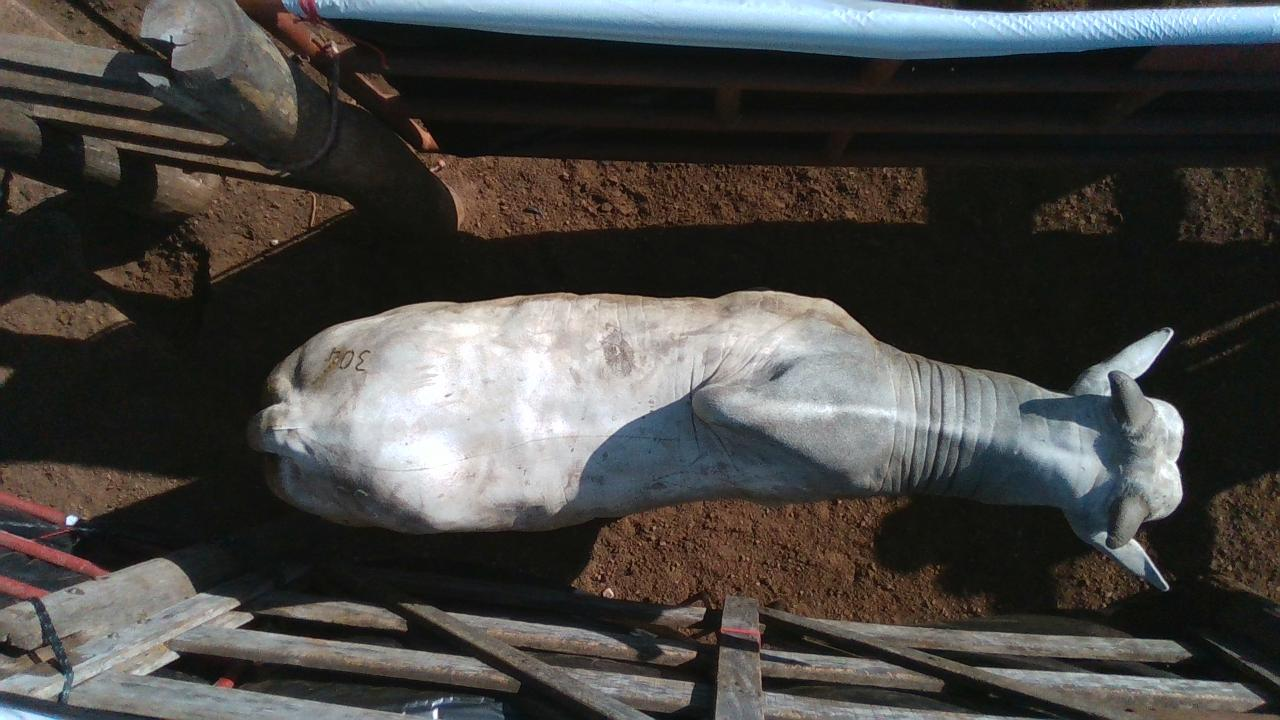cattle: (244, 286, 1186, 593)
